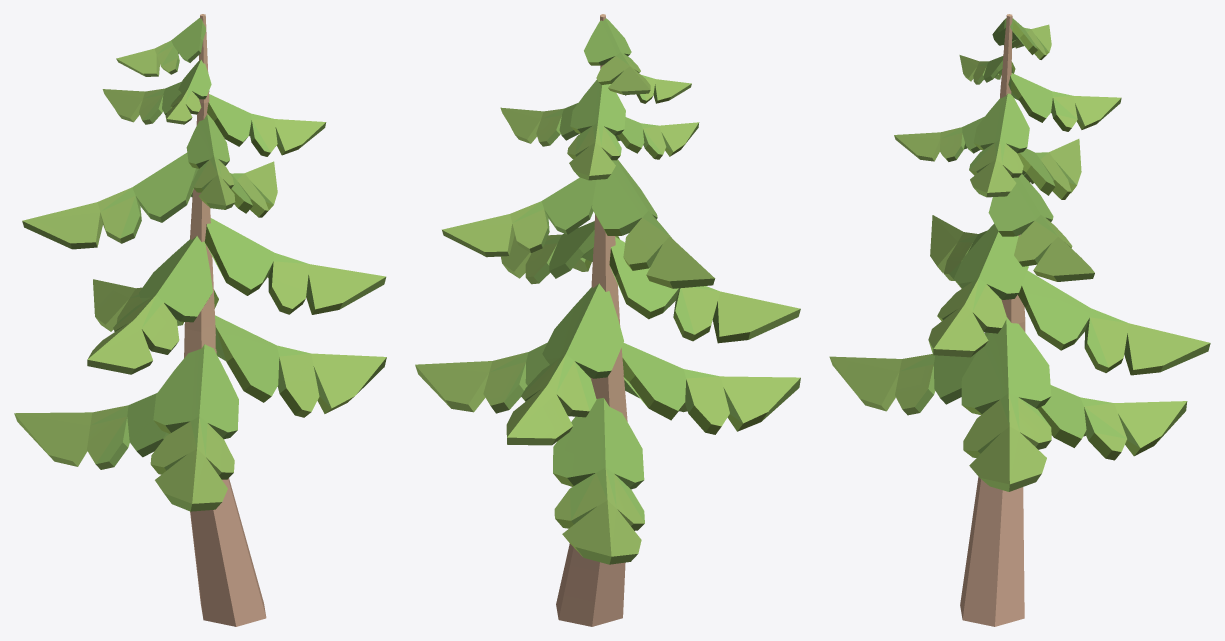
Rendered from tree_10.glb.
3 views of the same model, side by side, from view 1: azimuth 30°, elevation 25°; view 2: azimuth 150°, elevation 25°; view 3: azimuth 270°, elevation 25° (orthographic). The views are drawn at different scales.
Parts seen in each view (by area): view 1: PP_Tree_10.002; view 2: PP_Tree_10.002; view 3: PP_Tree_10.002.
Part boxes in pixels (x1=…): PP_Tree_10.002: x1=14, y1=14, x2=386, y2=626; PP_Tree_10.002: x1=415, y1=14, x2=800, y2=626; PP_Tree_10.002: x1=829, y1=14, x2=1210, y2=626.
Bounding box in the file's own units: 4.24 × 7.12 × 4.2.
